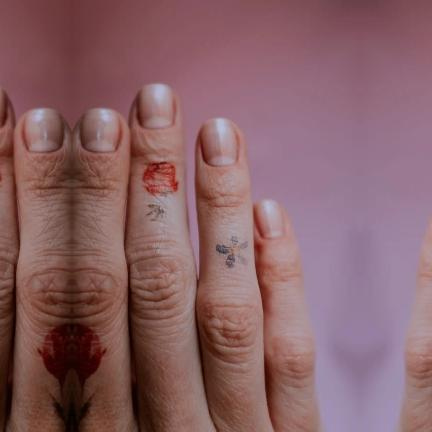Nail: (199, 118, 237, 166), (80, 108, 120, 152), (24, 108, 64, 152), (139, 84, 173, 128), (254, 199, 284, 239), (0, 86, 5, 127)
